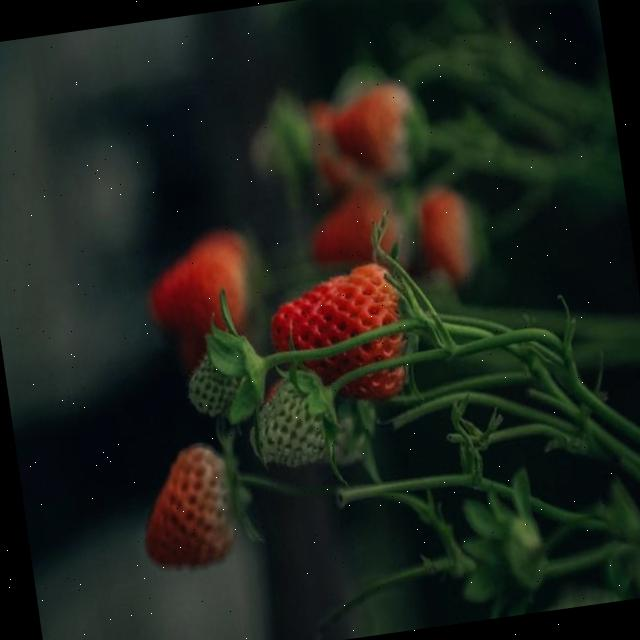strawberry: (263, 261, 417, 415), (131, 440, 252, 574), (140, 230, 268, 356), (302, 179, 416, 282), (242, 364, 344, 472), (325, 82, 431, 185), (179, 332, 268, 427)
